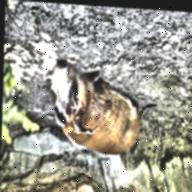boar: (48, 60, 159, 161)
